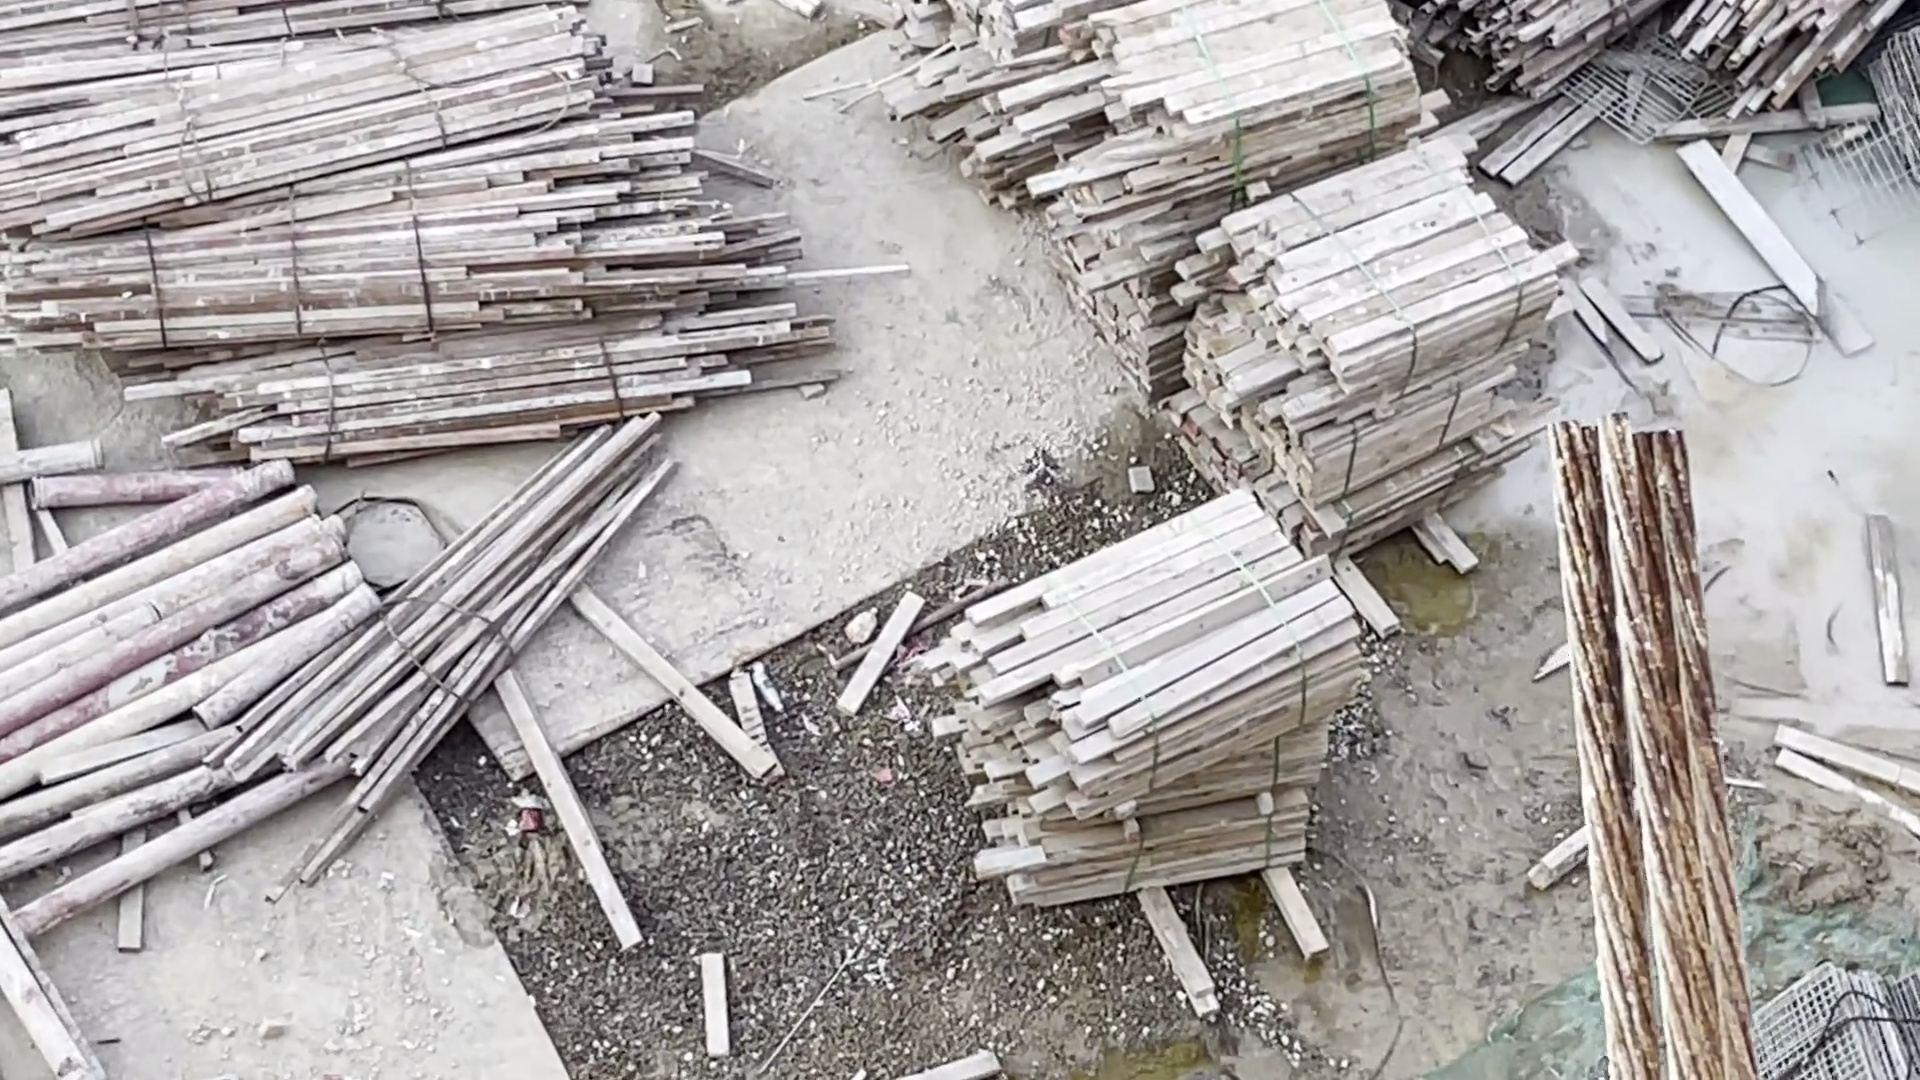wood: (1, 1, 851, 407), (868, 1, 1524, 516), (975, 497, 1367, 914)
